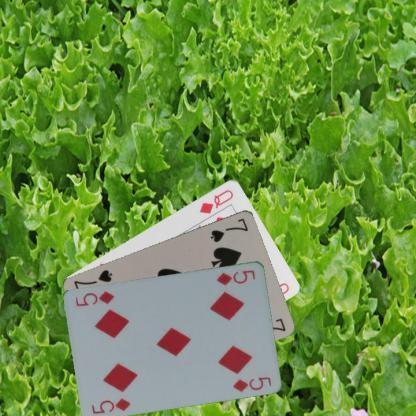5d: (88, 395, 132, 415), (214, 267, 257, 287)
7s: (208, 214, 250, 244)
Qd: (197, 186, 235, 215)
